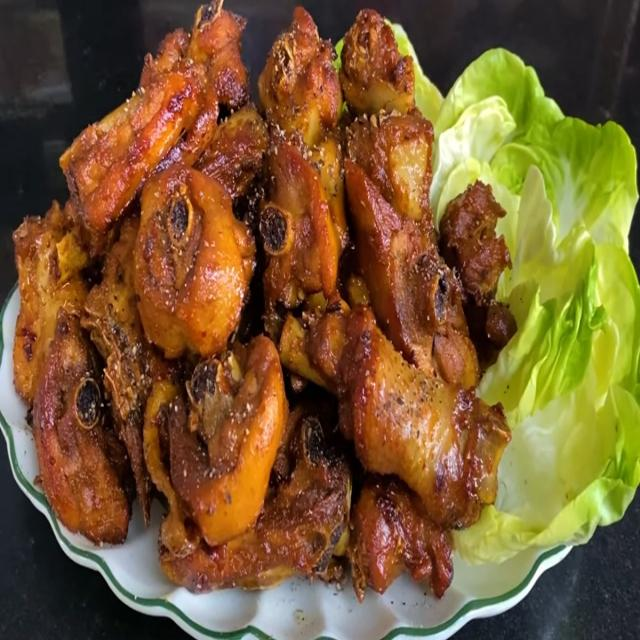ga kho: (14, 0, 516, 596)
